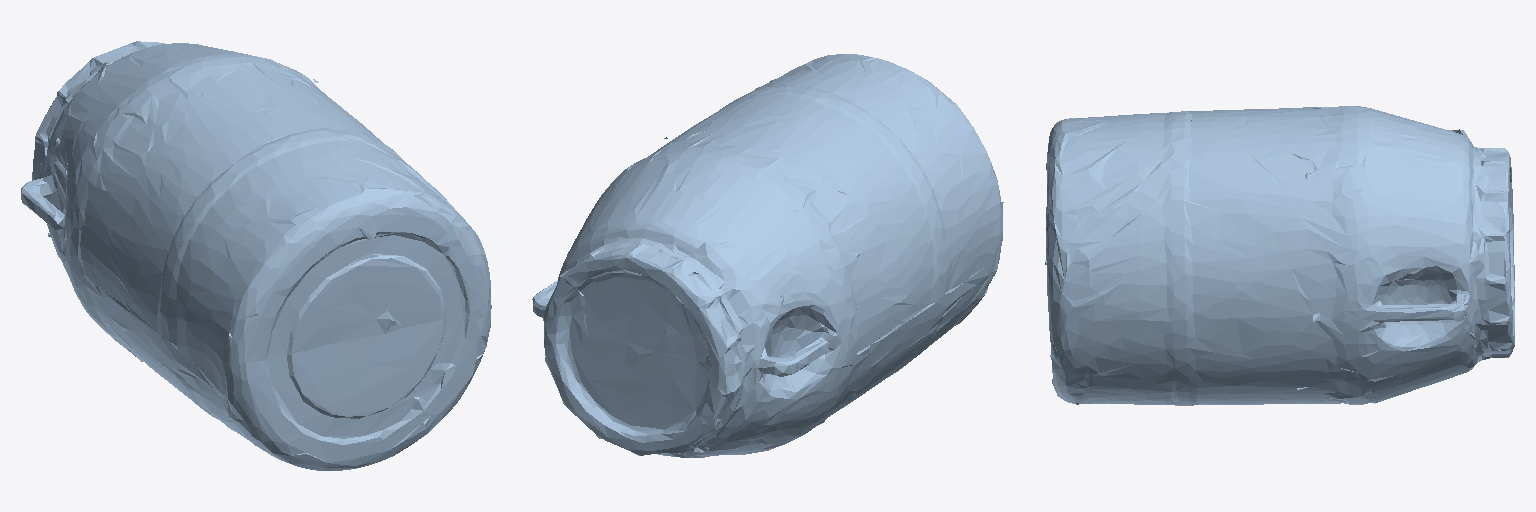
URDF robot description (bucket009):
<?xml version="1.0" ?>
<robot name="bucket009">
  <dynamics damping="0.5" friction="0.9"/>
  <link name="bucket009_link">
    <inertial>
      <mass value="1.0"/>
      <origin xyz="0 0 0"/>
      <inertia ixx="0.01" ixy="0" ixz="0" iyy="0.01" iyz="0" izz="0.01"/>
    </inertial>
    <visual>
      <origin rpy="0 0 0" xyz="0 0 0"/>
      <geometry>
        <mesh filename="bucket009.obj" scale="1.0 1.0 1.0"/>
      </geometry>
      <material name="mat">
        <color rgba="0.7 0.8 0.9 0.7"/>
      </material>
    </visual>
    <collision name="bucket009">
      <origin rpy="0 0 0" xyz="0 0 0"/>
      <geometry>
        <mesh filename="bucket009.obj" scale="1.0 1.0 1.0"/>
      </geometry>
    </collision>
  </link>
</robot>

--- Render facts (derived) ---
The picture shows the robot from 3 angles, left to right: view 1: azimuth 30°, elevation 25°; view 2: azimuth 150°, elevation 25°; view 3: azimuth 270°, elevation 25°; orthographic projection.
Model bucket009 with 1 links and 0 joints (none), rooted at bucket009_link, posed all joints at 0.
Links seen in each view (by area): view 1: bucket009_link; view 2: bucket009_link; view 3: bucket009_link.
Boxes of the visible links, x1,y1,x2,y2 form: bucket009_link: (21,41,491,470); bucket009_link: (532,54,1003,457); bucket009_link: (1045,106,1514,405).
Bounding box of the posed robot: 0.3835 × 0.6097 × 0.3927 m (x, y, z).
1 mesh visuals loaded from 1 distinct referenced files (1 OBJ).
